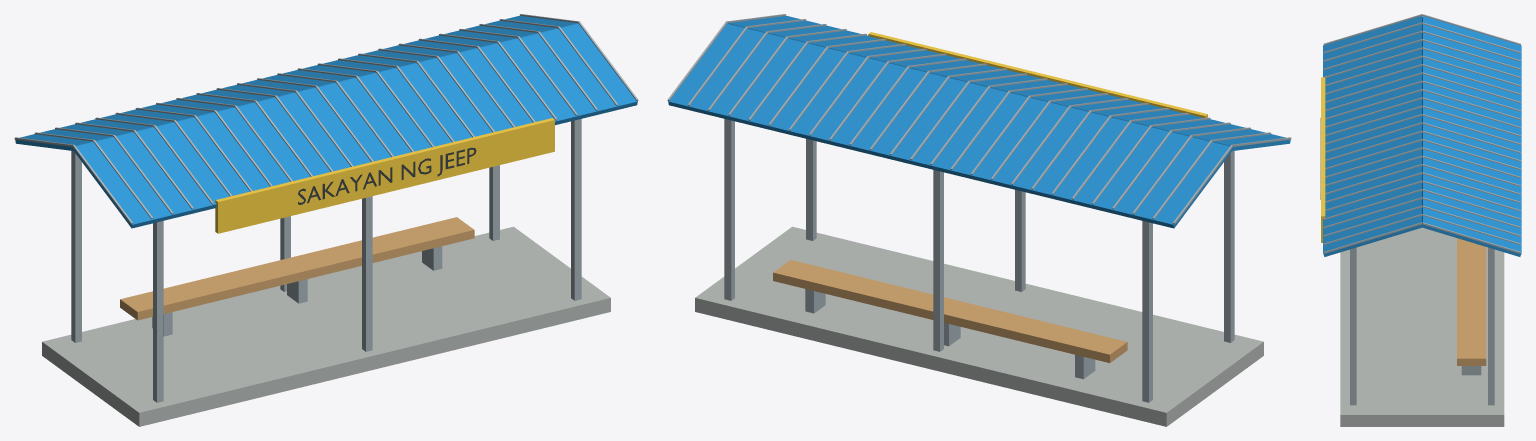
Rendered from TR_Jeepney_Shelter.glb.
3 views of the same model, side by side, from view 1: azimuth 30°, elevation 25°; view 2: azimuth 150°, elevation 25°; view 3: azimuth 270°, elevation 25° (orthographic). The views are drawn at different scales.
Parts seen in each view (by area): view 1: TR_Jeepney_Shelter; view 2: TR_Jeepney_Shelter; view 3: TR_Jeepney_Shelter.
Part boxes in pixels (left/top/right/bottom): TR_Jeepney_Shelter: left=14, top=14, right=638, bottom=426; TR_Jeepney_Shelter: left=667, top=14, right=1291, bottom=426; TR_Jeepney_Shelter: left=1320, top=14, right=1521, bottom=426.
Bounding box in the file's own units: 7.53 × 3.55 × 3.06.
